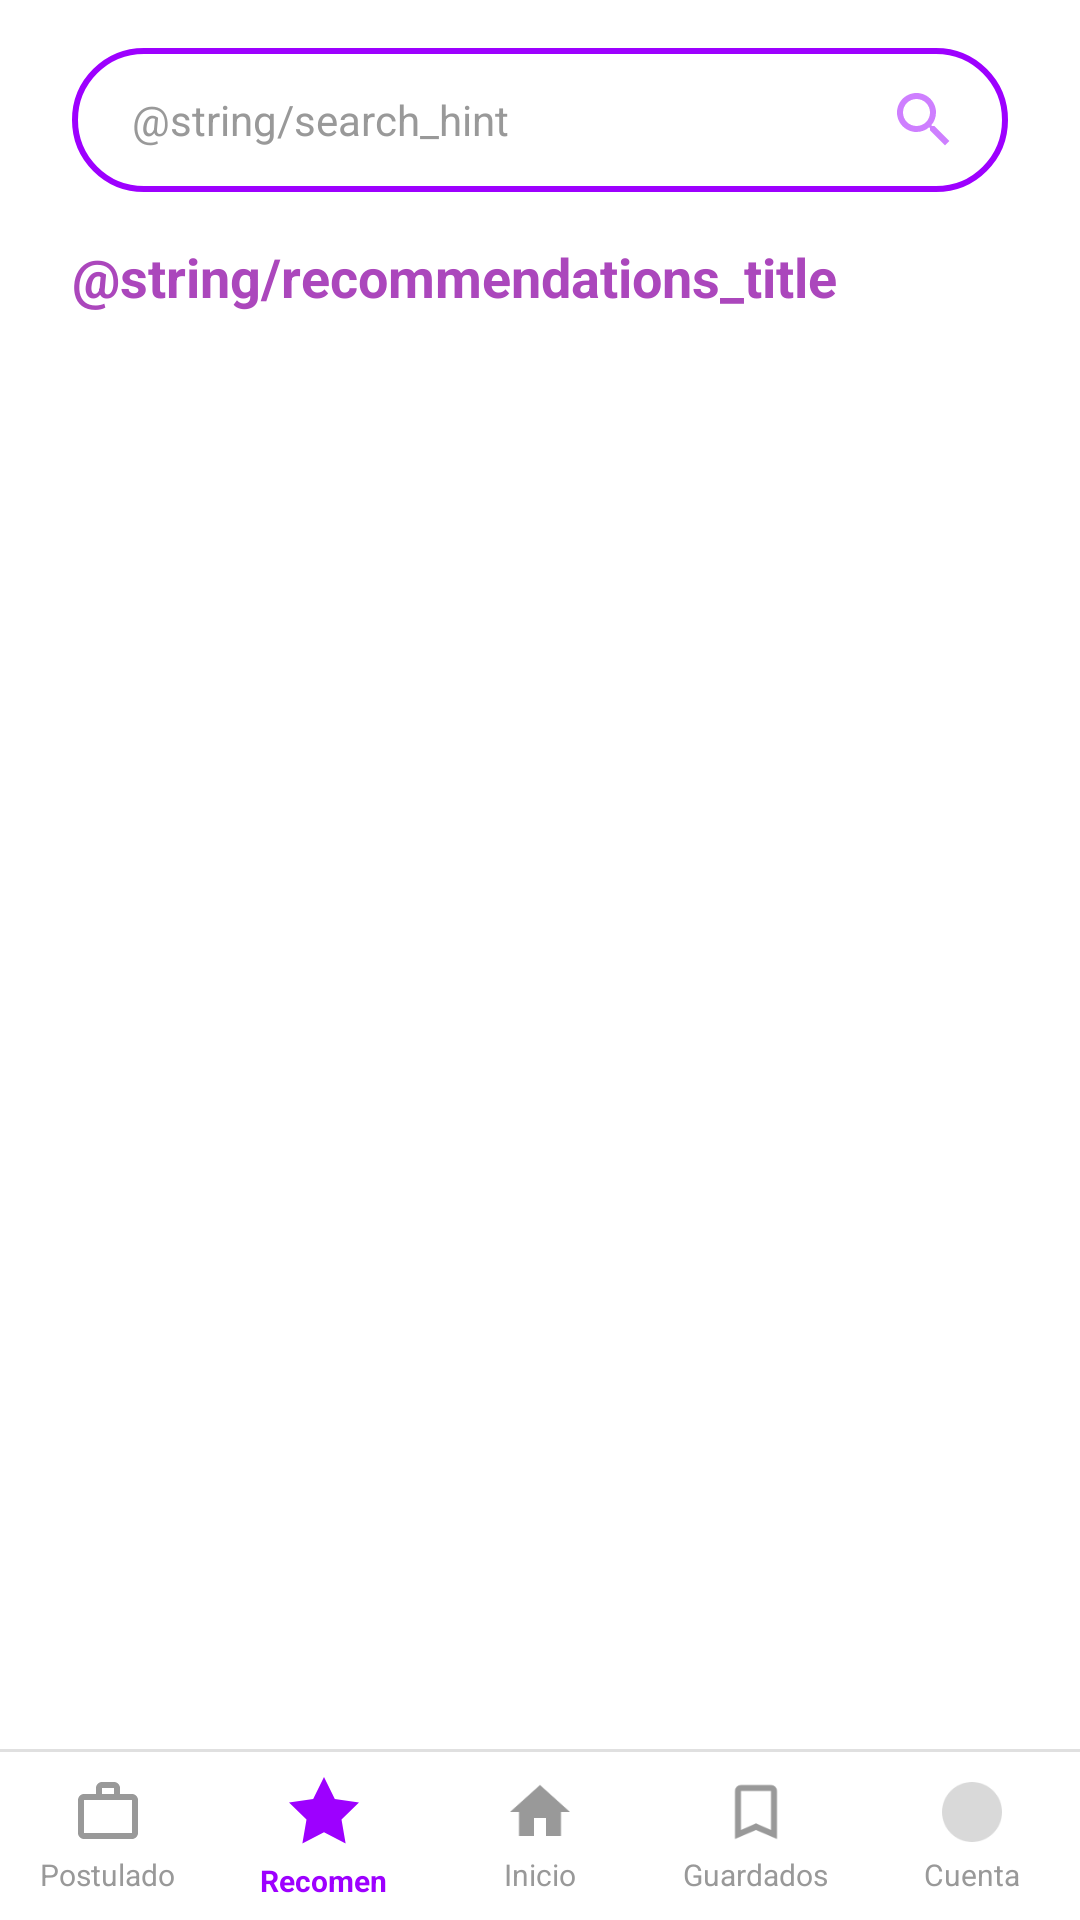

Named icons in this screenshot (1080px x 1920px) and their centers, (x=x, y=y):
Search: (x=923, y=119)
